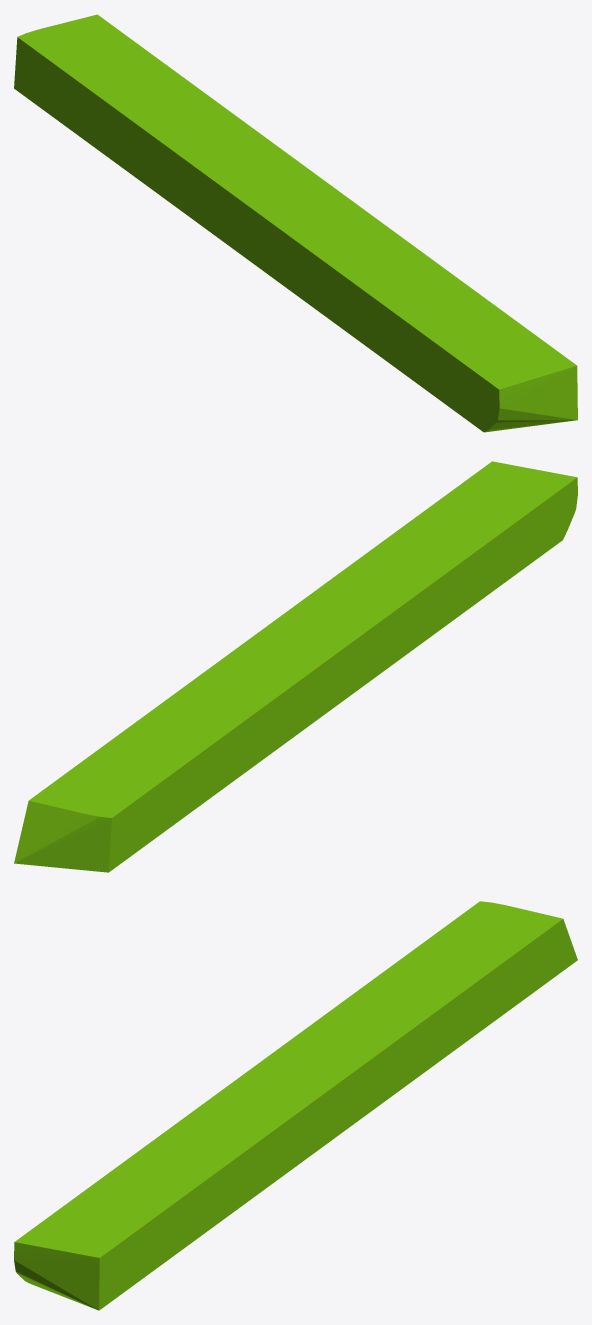
File: convex_piece_4.obj
The picture shows the model from 3 angles, top to bottom: view 1: azimuth 30°, elevation 25°; view 2: azimuth 150°, elevation 25°; view 3: azimuth 330°, elevation 25°; orthographic projection. The views are drawn at different scales.
Size of the model in its own units: 0.0059 by 0.00366 by 0.0615.
